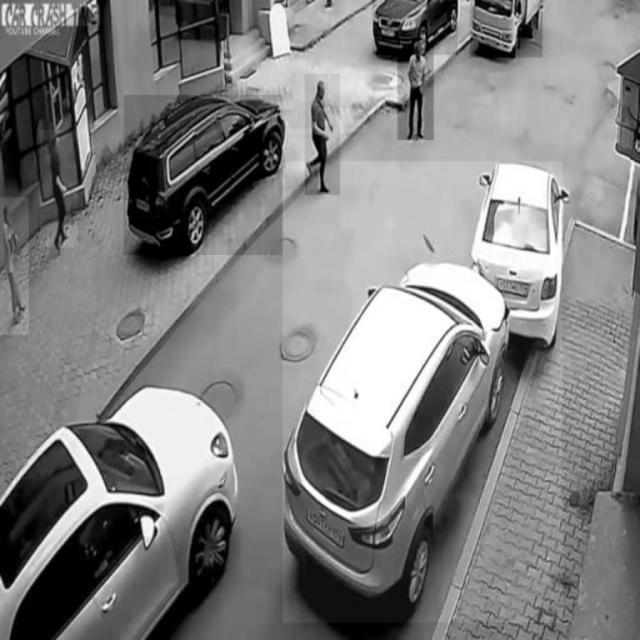accident: (283, 162, 563, 623)
person: (41, 130, 78, 248), (306, 74, 341, 195), (0, 197, 28, 334), (398, 38, 434, 140)
vehicle: (2, 385, 238, 639), (124, 95, 282, 255), (373, 0, 457, 55), (471, 0, 543, 57)
